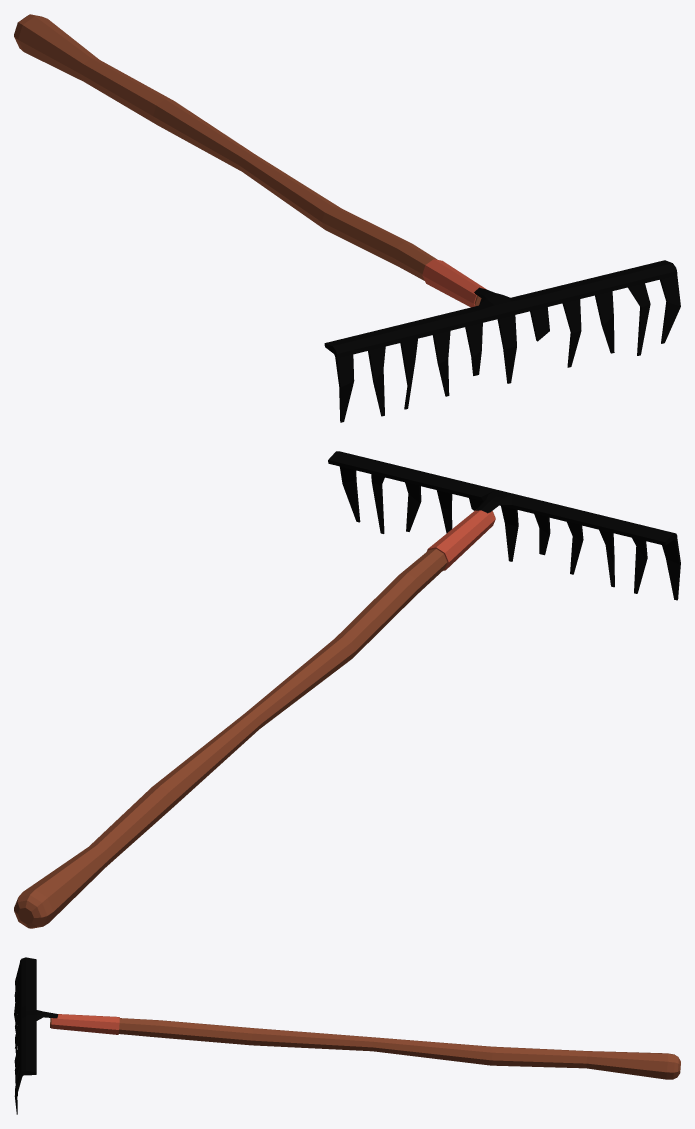
Rendered from Rateau_Animation.fbx.
3 renders of one model, top to bottom at view 1: azimuth 30°, elevation 25°; view 2: azimuth 150°, elevation 25°; view 3: azimuth 270°, elevation 25°, orthographic. The views are drawn at different scales.
Visible parts, largest first — view 1: grably_Mesh; view 2: grably_Mesh; view 3: grably_Mesh.
Boxes of the visible parts, box(x1,y1,x2,y2) form: grably_Mesh: box(14, 14, 680, 422); grably_Mesh: box(14, 451, 680, 928); grably_Mesh: box(14, 957, 680, 1114).
Bounding box in the file's own units: 3.46 × 0.935 × 8.6.
